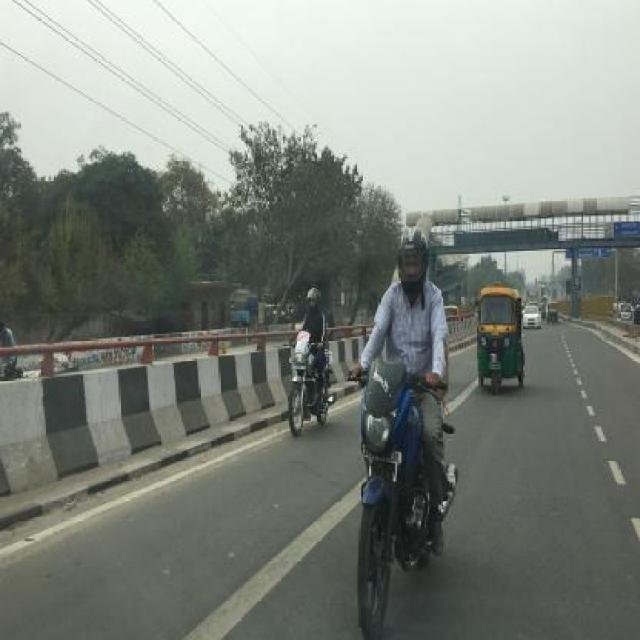helmet: (392, 231, 437, 296), (290, 281, 325, 316)
motorcycle: (343, 225, 482, 640), (279, 284, 340, 439)
